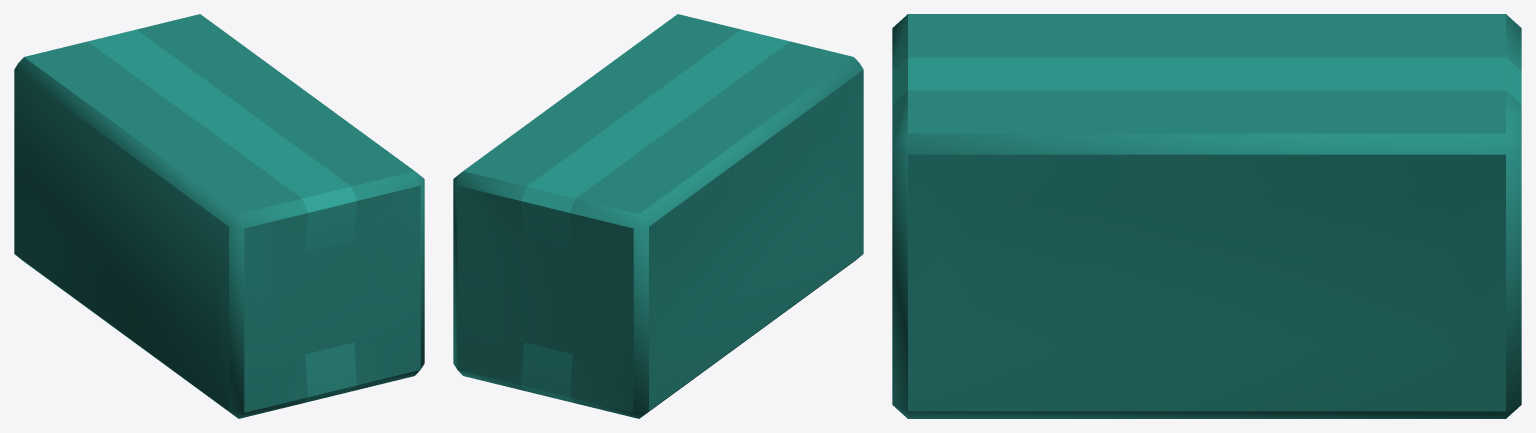
File: crate.glb
3 views of the same model, side by side, from view 1: azimuth 30°, elevation 25°; view 2: azimuth 150°, elevation 25°; view 3: azimuth 270°, elevation 25° (orthographic). The views are drawn at different scales.
Parts seen in each view (by area): view 1: crate; view 2: crate; view 3: crate.
Part boxes in pixels (x1,y1,x2,y2): crate: (14,14,424,418); crate: (453,14,863,418); crate: (892,14,1521,418).
Bounding box in the file's own units: 0.25 × 0.25 × 0.5.
